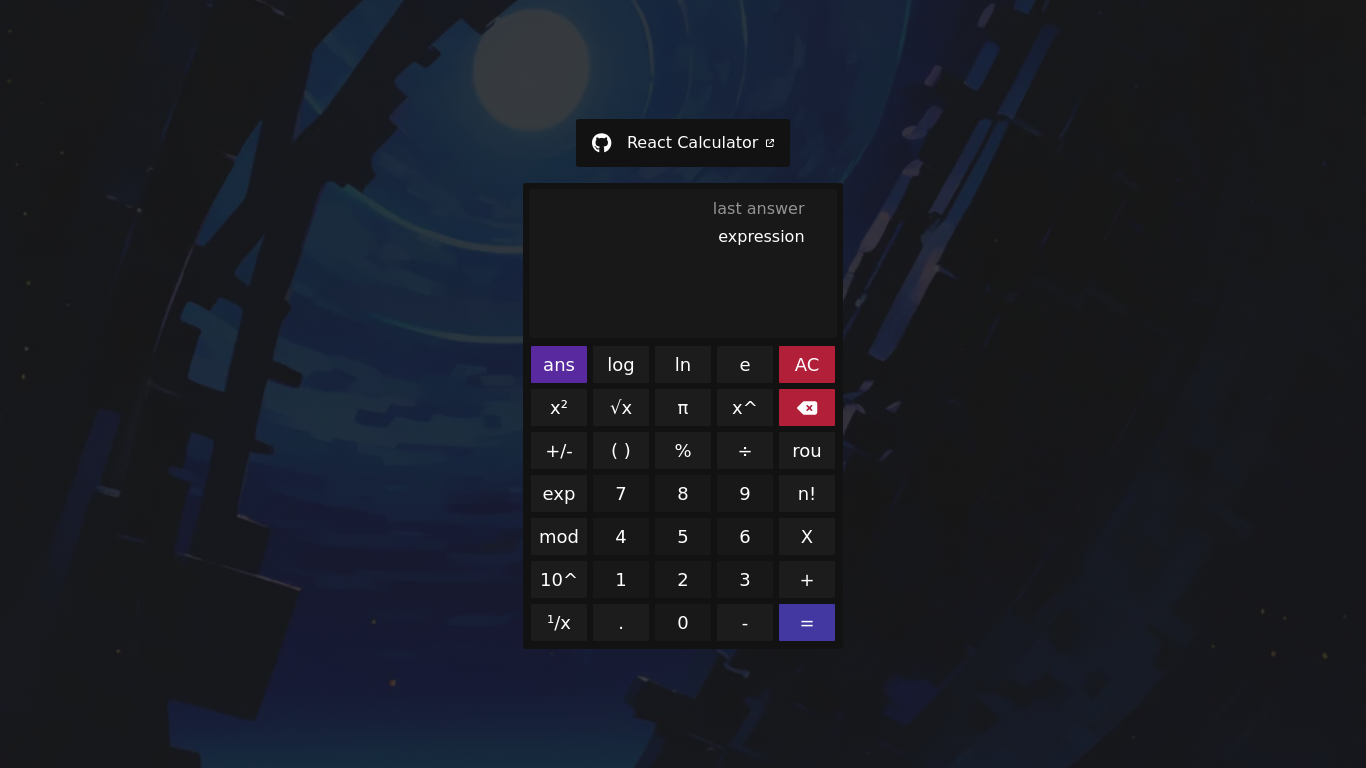
Test:  › 50 % 10
This screenshot has width=1366, height=768.
Click the button "5" at coordinates (683, 537), box [653,516,713,557]
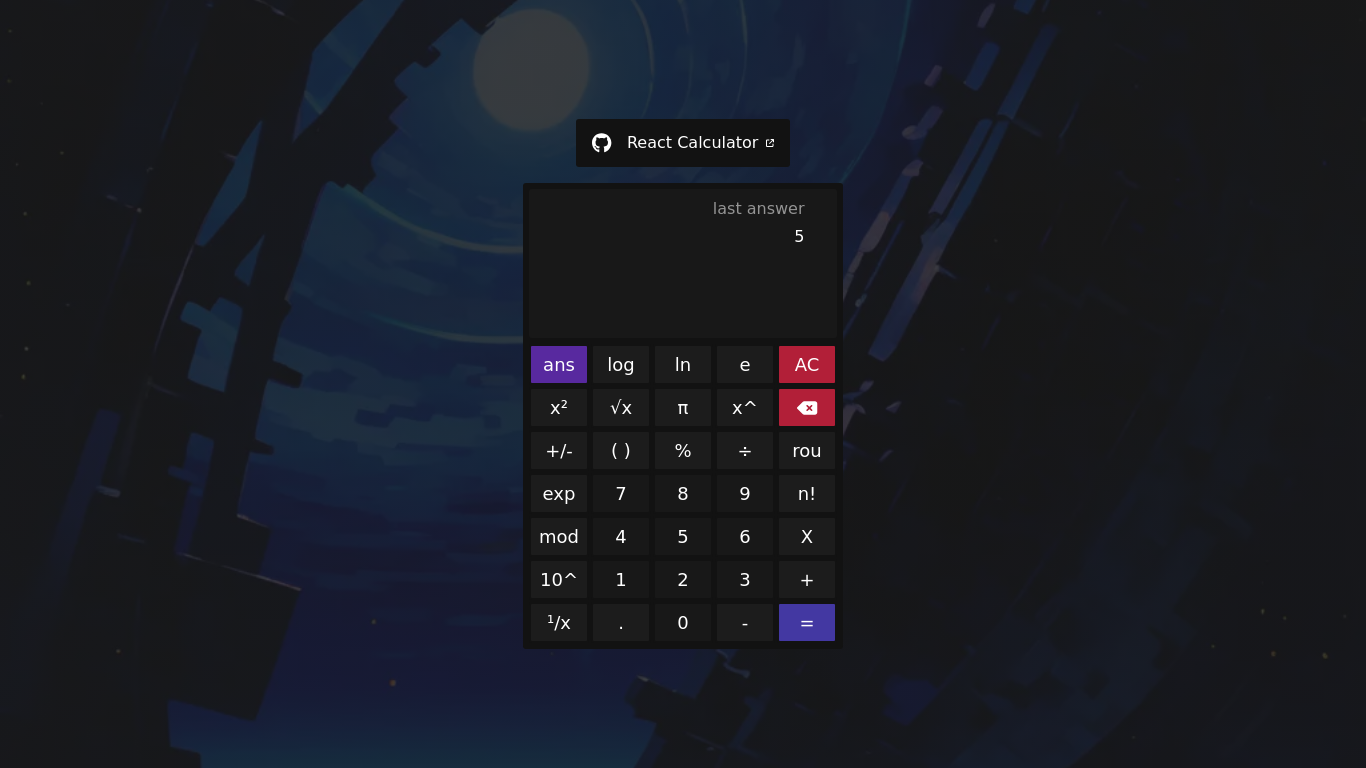
Click the button "0" at coordinates (683, 623), box [653,602,713,643]
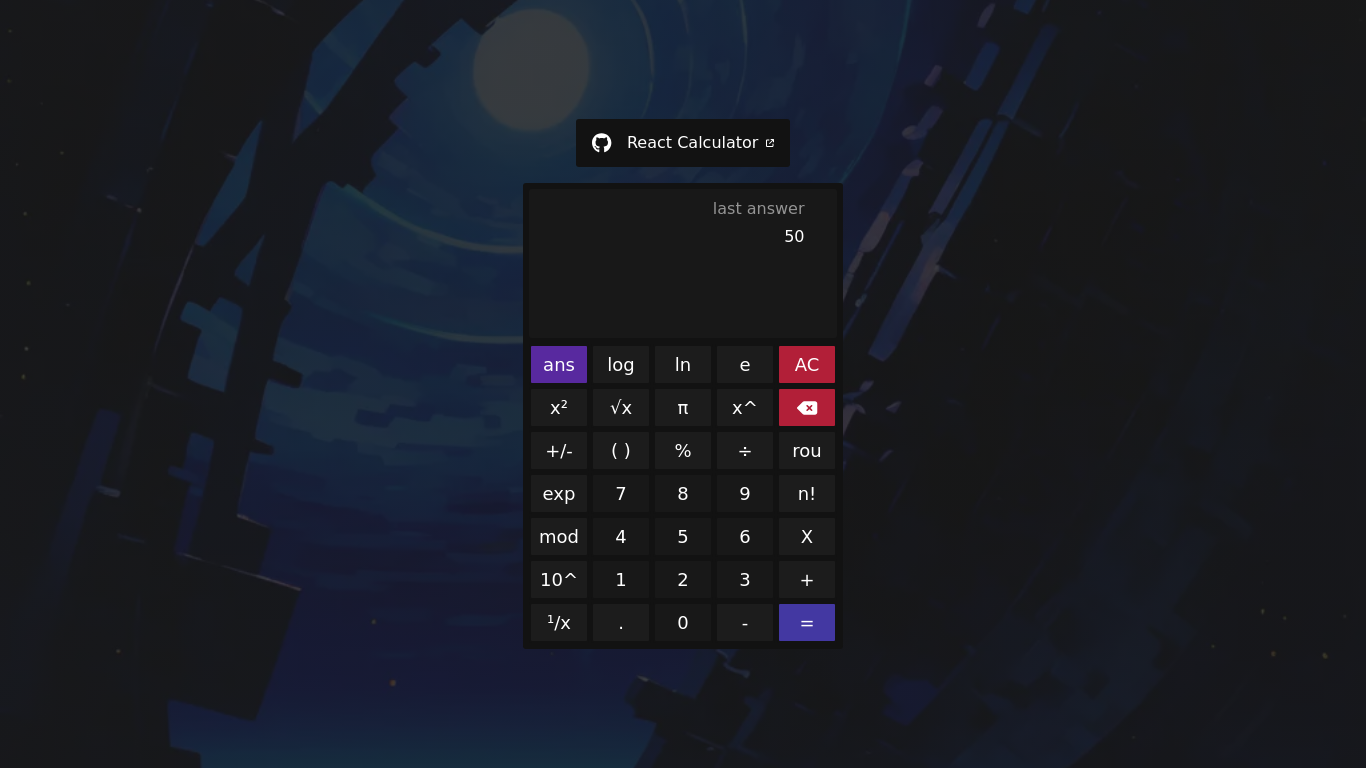
Click the button "%" at coordinates (683, 451), box [653,430,713,471]
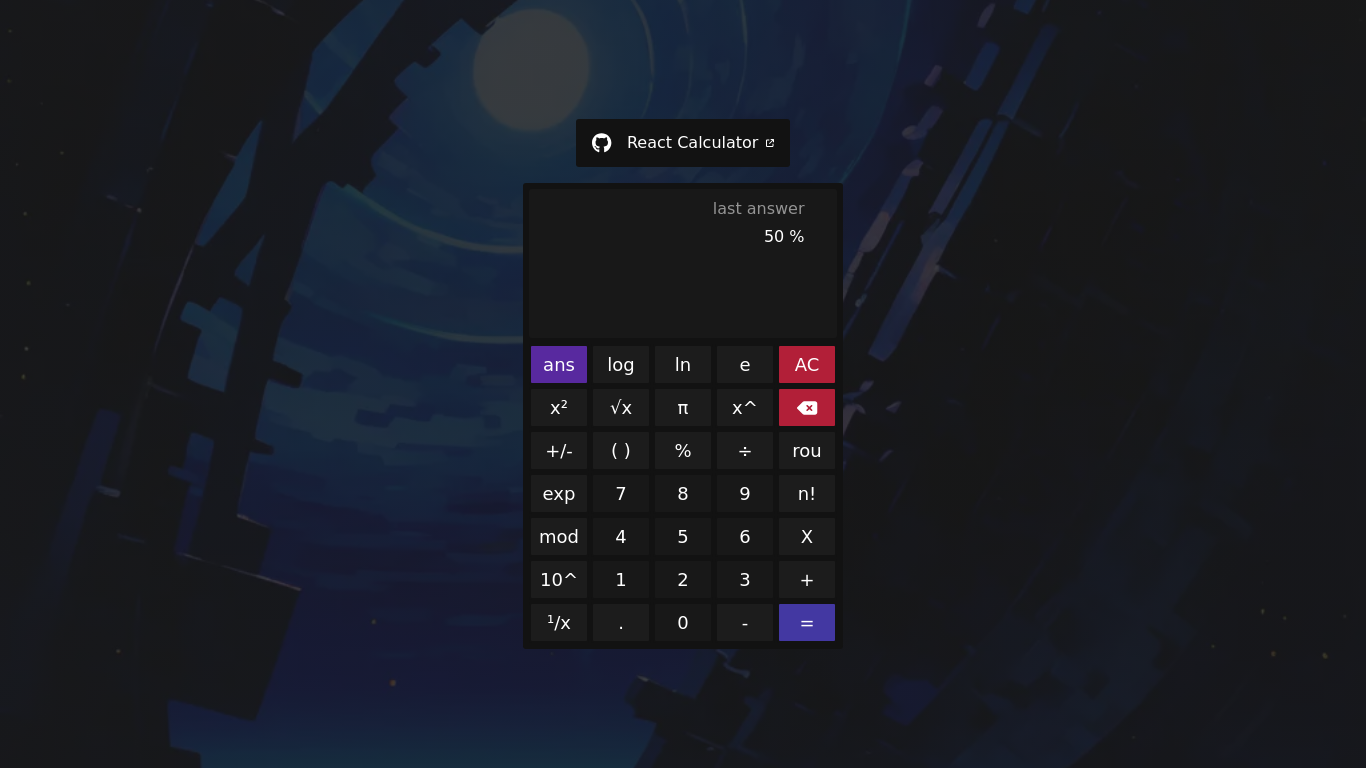
Click the button "1" at coordinates (621, 580), box [591,559,651,600]
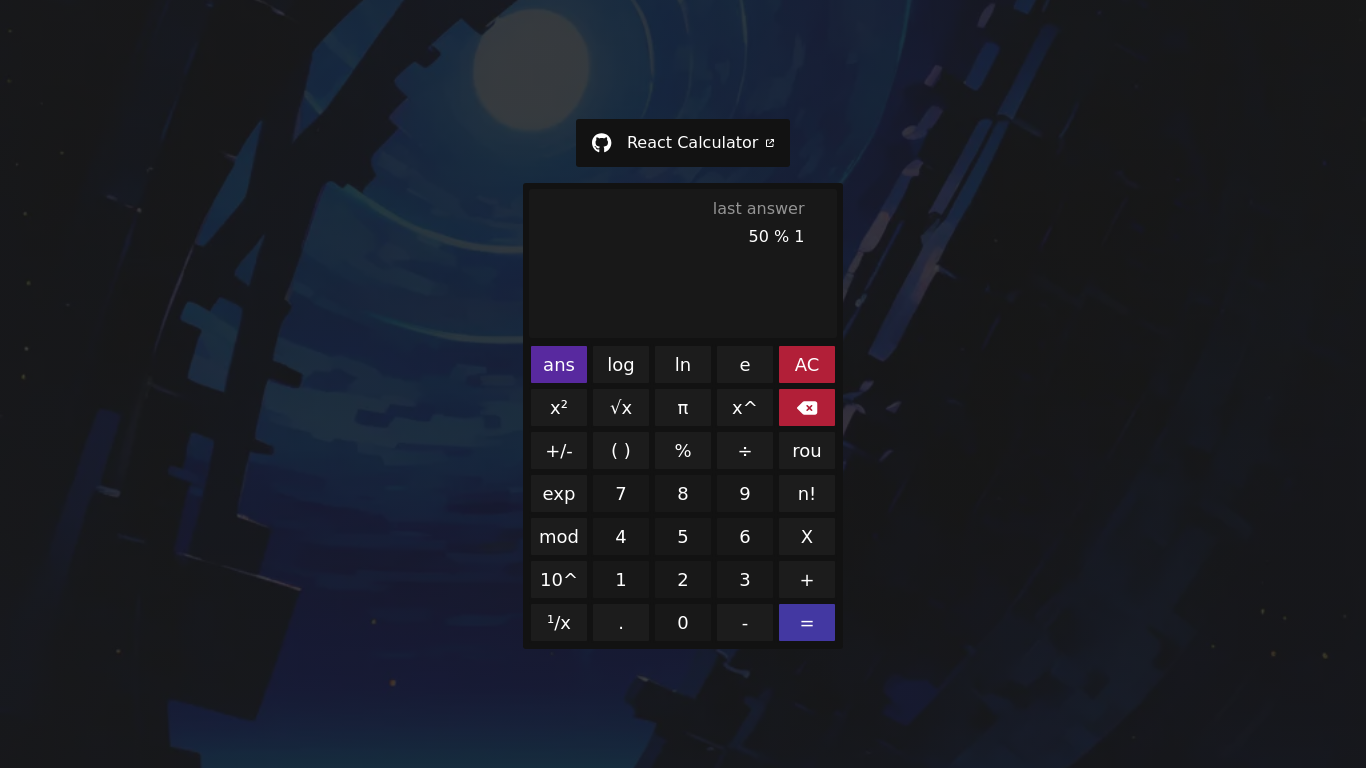
Click the button "0" at coordinates (683, 623), box [653,602,713,643]
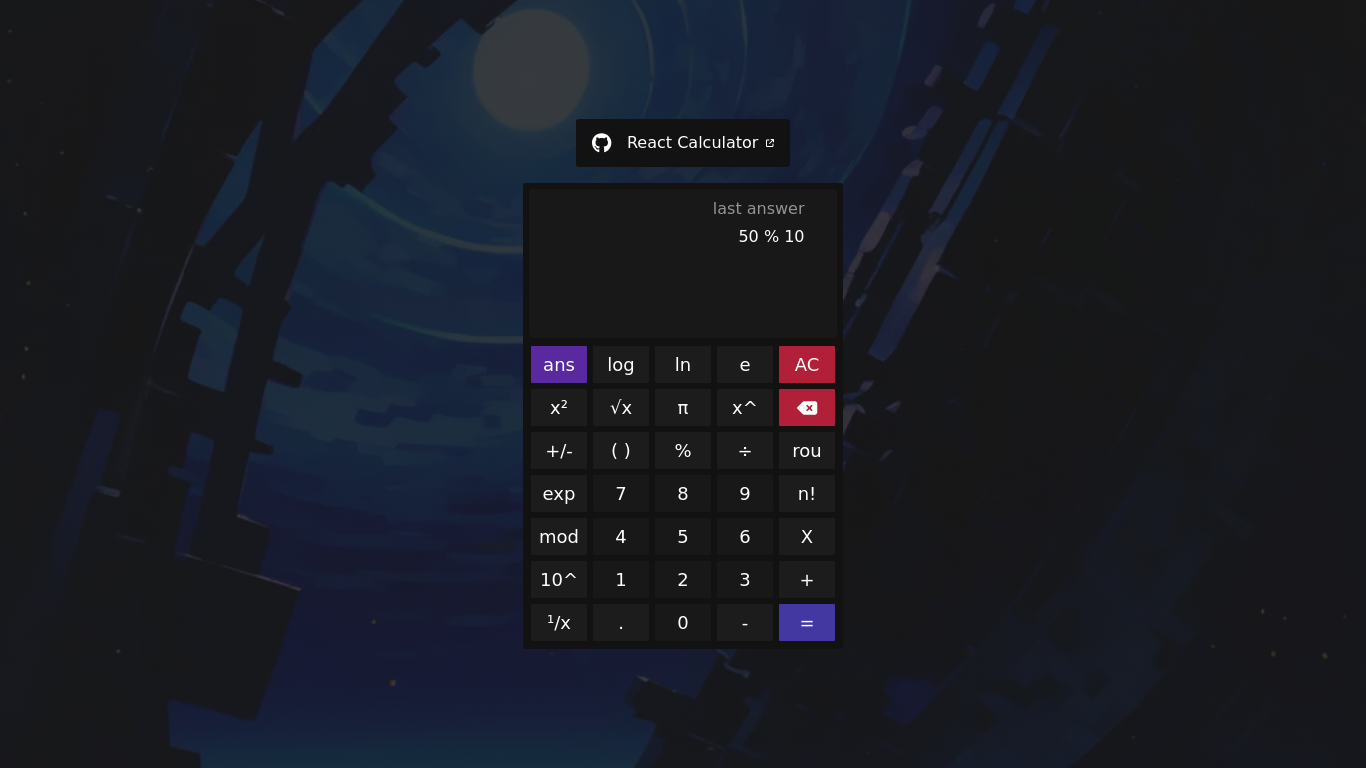
Click the button "=" at coordinates (807, 623), box [777,602,837,643]
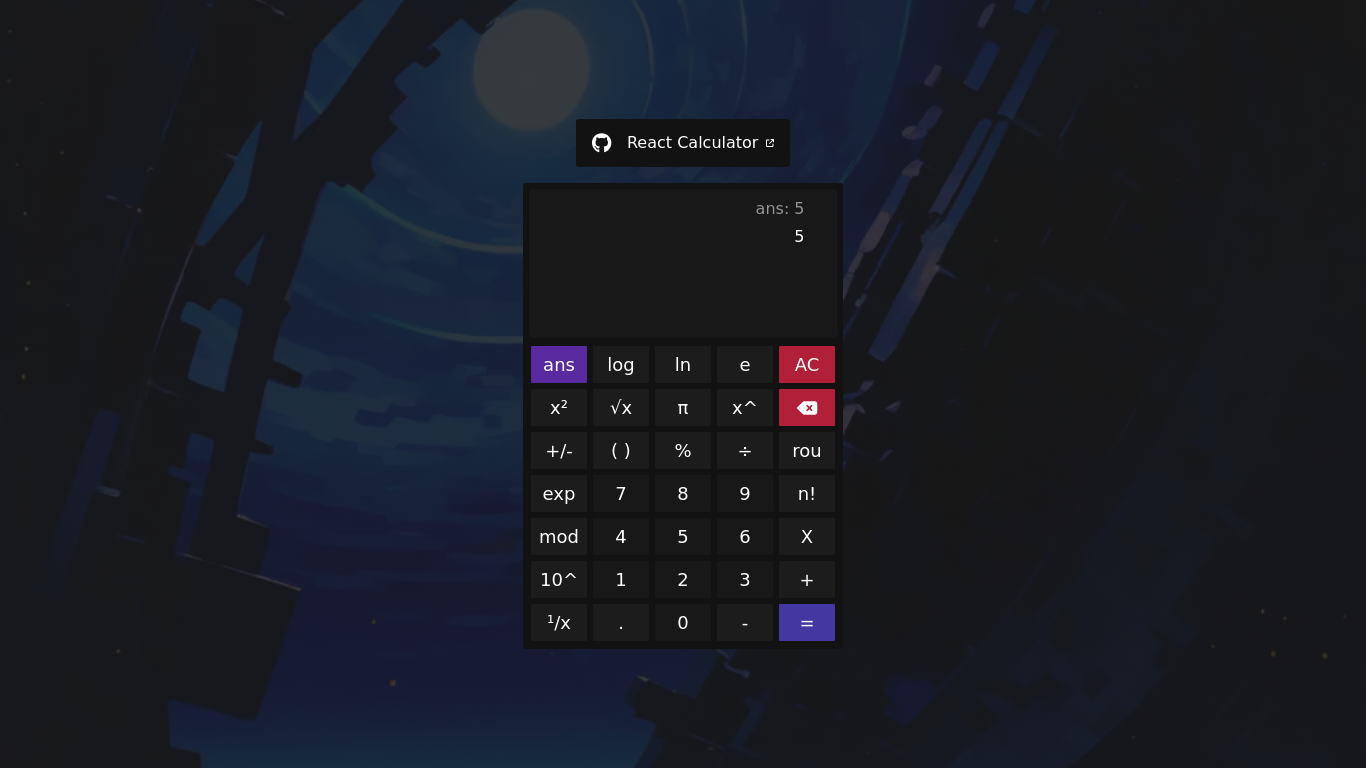
Check: the text with test id "expression" reads "5", box [794,227,804,246]
